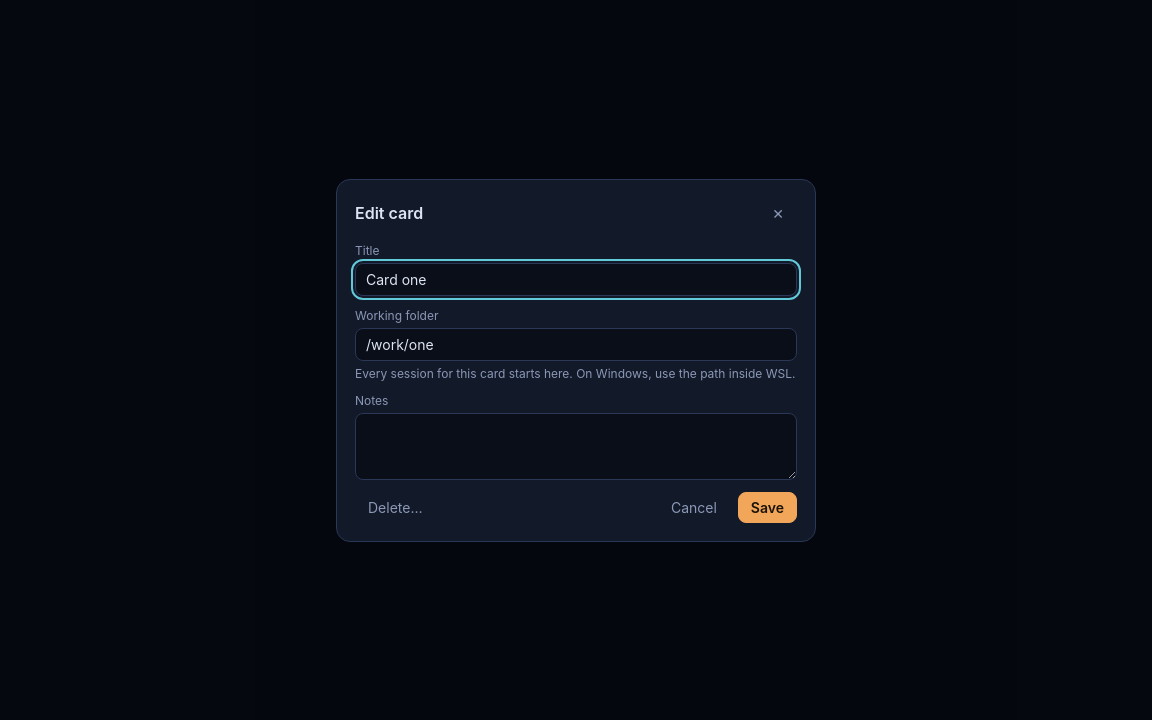
CardDialog › reports a delete error
This screenshot has width=1152, height=720.
Click the button "Delete…" at (395, 507), box [355,492,436,522]
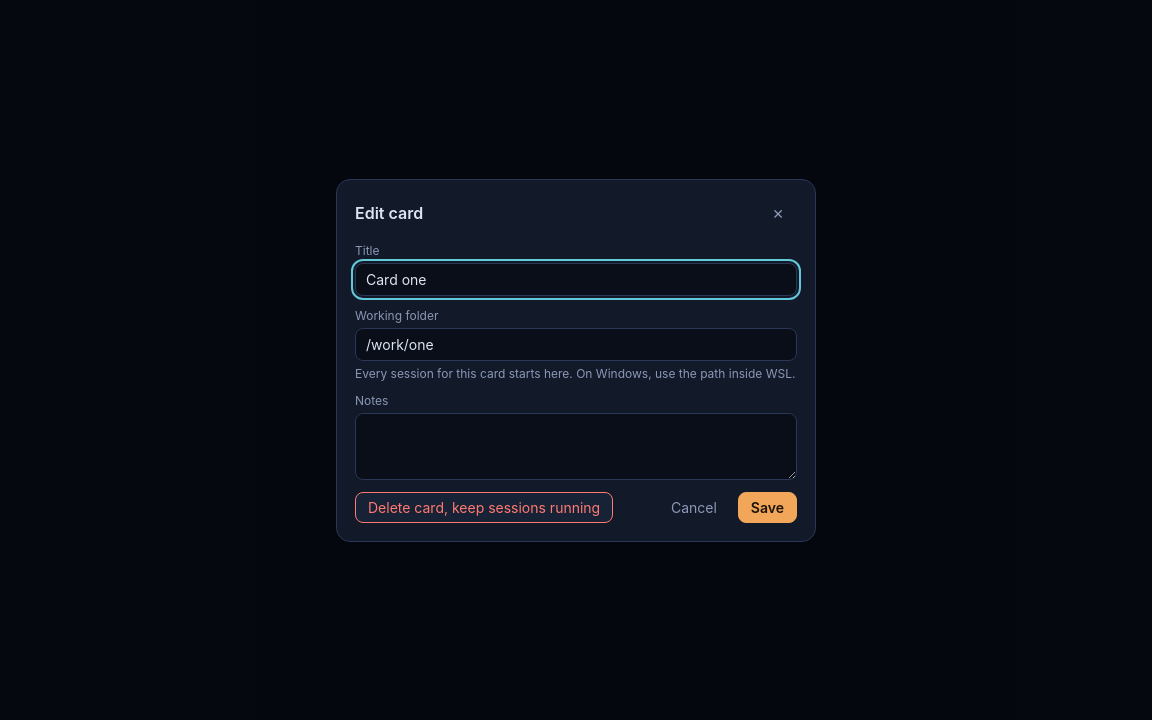
Click the button "Delete card, keep sessions running" at (484, 507), box [355,492,613,522]
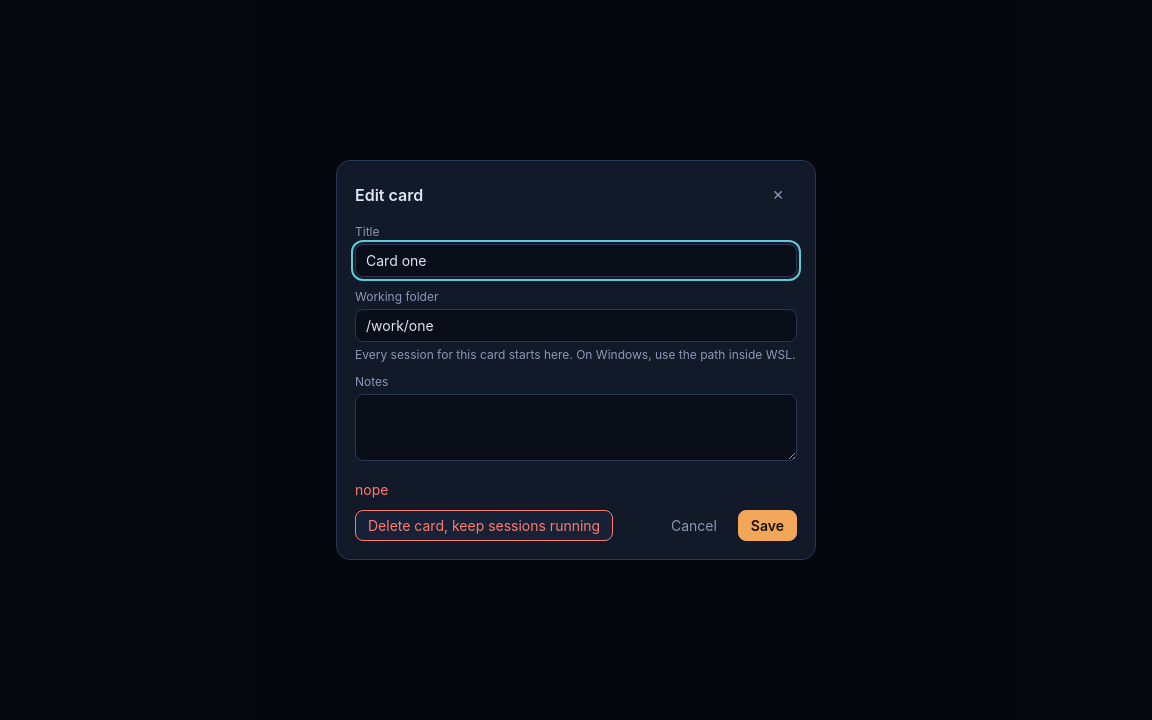
Expected: the text "nope" is shown, [355,481,388,498]
